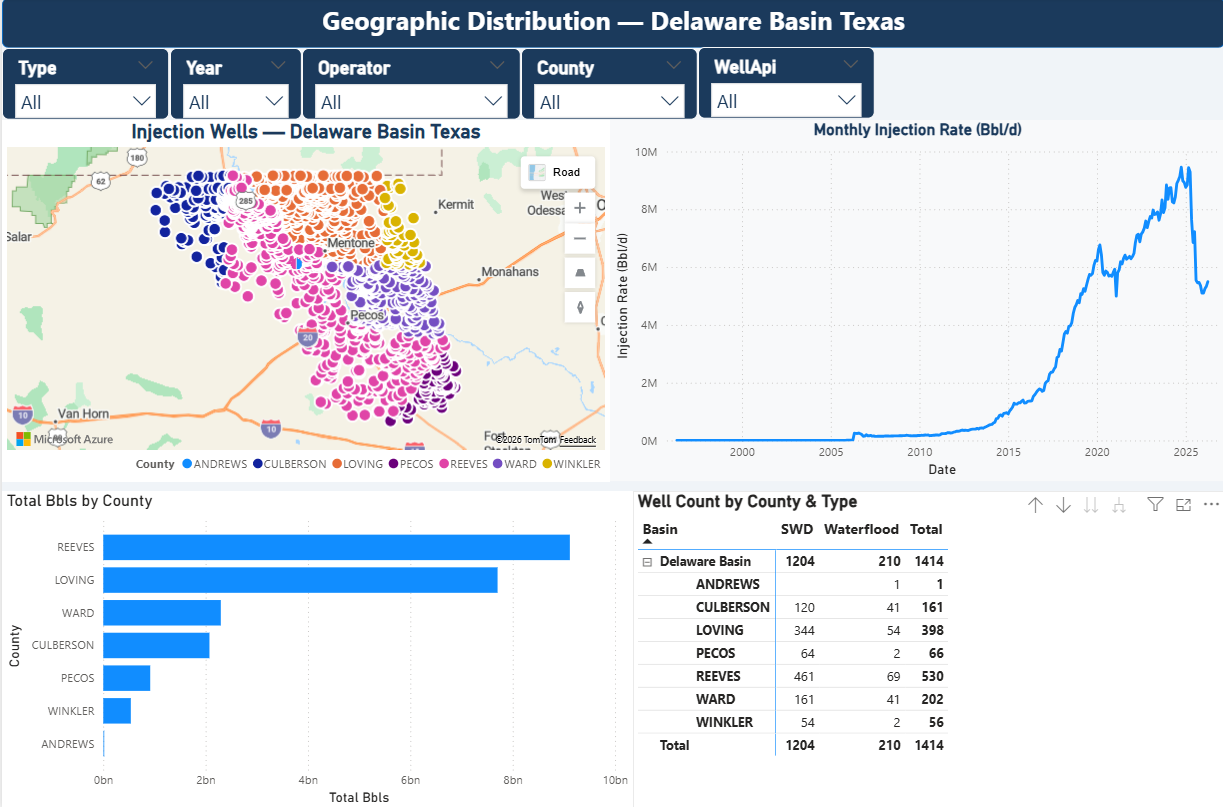

The page's visual inventory and layout, read from the dashboard file:
{"tool":"powerbi","page":{"name":"Geo Map","canvas":[1280,850],"ordinal":2},"visuals":[{"type":"shape","box":[0,0,1280,52.2],"z":0},{"type":"textbox","box":[300.1,0,679.8,51.8],"z":1000},{"type":"azureMap","title":"Injection Wells — Delaware Basin Texas","fields":{"Y":["InjectionWells.GisLatNad83"],"X":["InjectionWells.GisLongNad83"],"Series":["InjectionWells.County"]},"box":[0,127.9,636.4,378.5],"z":2000},{"type":"slicer","fields":{"Values":["InjectionWells.Type"]},"box":[0,52.9,175.5,75.1],"z":3000},{"type":"slicer","fields":{"Values":["DateTable.Date.Variation.Date Hierarchy.Year"]},"box":[175.5,52.9,138.5,75.1],"z":4000},{"type":"slicer","fields":{"Values":["InjectionWells.OperatorName"]},"box":[314,52.9,229.4,75.1],"z":5000},{"type":"slicer","fields":{"Values":["InjectionWells.County"]},"box":[543.4,52.9,185,75.1],"z":6000},{"type":"clusteredBarChart","fields":{"Category":["InjectionWells.County"],"Y":["InjectionWells.Total Bbls"]},"box":[0,515.9,660.8,334.1],"z":7000},{"type":"lineChart","title":"Monthly Injection Rate (Bbl/d)","fields":{"Y":["Sum(InjectionWells.SwdInjectionRate)"],"Category":["InjectionWells.MonthYr"]},"box":[636.4,127.9,643.8,378.5],"z":8000},{"type":"slicer","fields":{"Values":["InjectionWells.WellApi"]},"box":[728.4,51.8,185,75.1],"z":9000},{"type":"pivotTable","title":"Well Count by County & Type","fields":{"Rows":["InjectionWells.Location Hierarchy.Basin","InjectionWells.Location Hierarchy.County"],"Columns":["InjectionWells.Type"],"Values":["Count(InjectionWells.WellApi)"]},"box":[661,516,619,334],"z":10000}]}

Visuals, with their boxes in screenshot pixels (x1, y1, x2, y2), scaled from the page's 1280x850 canvas onto the 1223x807 screenshot:
shape: (0,0,1222,50)
textbox: (287,0,936,49)
"Injection Wells — Delaware Basin Texas" azureMap: (0,121,608,481)
slicer - InjectionWells.Type: (0,50,168,122)
slicer - DateTable.Date.Variation.Date Hierarchy.Year: (168,50,300,122)
slicer - InjectionWells.OperatorName: (300,50,519,122)
slicer - InjectionWells.County: (519,50,696,122)
clusteredBarChart - InjectionWells.County x InjectionWells.Total Bbls: (0,490,631,806)
"Monthly Injection Rate (Bbl/d)" lineChart: (608,121,1222,481)
slicer - InjectionWells.WellApi: (696,49,873,120)
"Well Count by County & Type" pivotTable: (632,490,1222,806)
